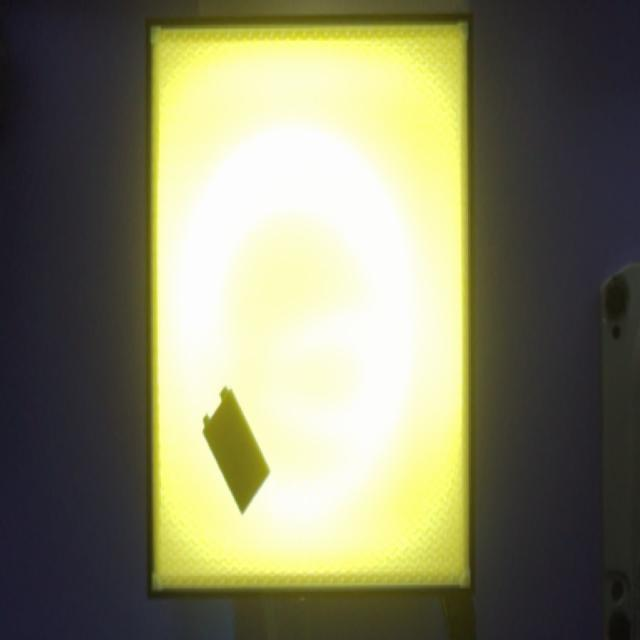bateria: (202, 386, 270, 514)
mesa: (146, 13, 474, 600)
